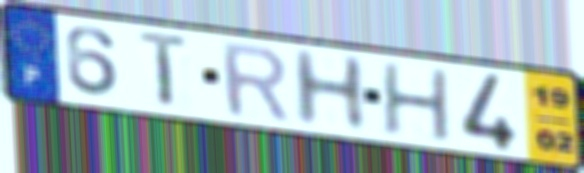4: (459, 70, 523, 153)
6: (63, 25, 122, 99)
H: (288, 46, 371, 132), (379, 61, 455, 145)
R: (216, 39, 293, 125)
T: (136, 28, 193, 110)
